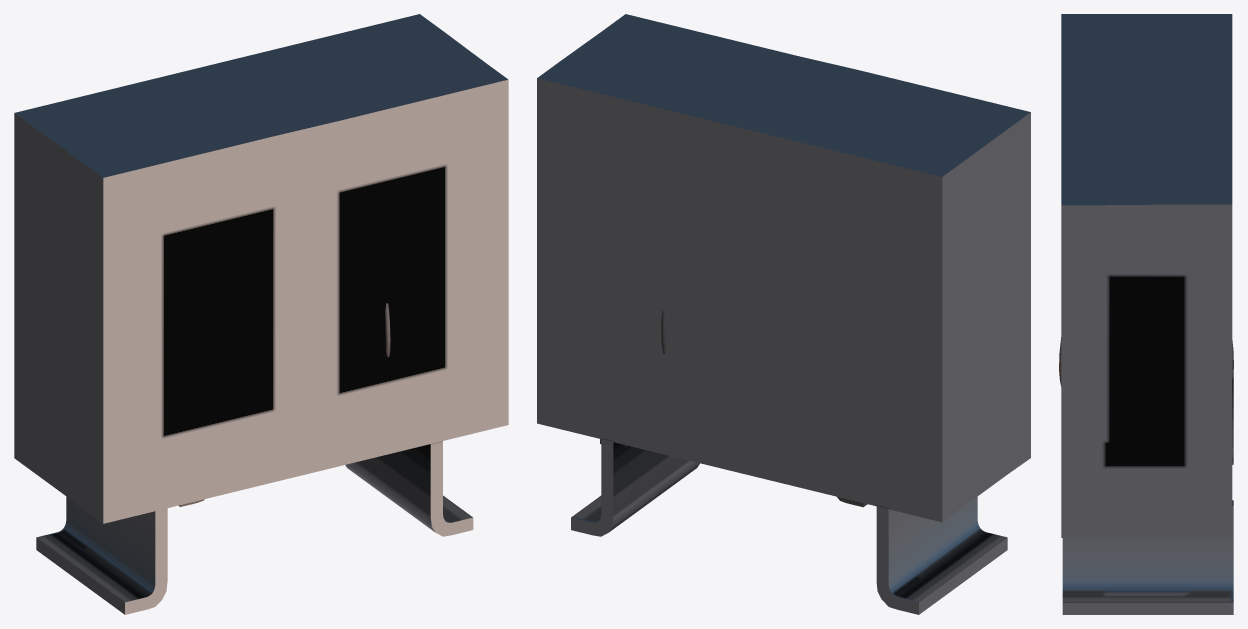
File: dianzi_2.glb
3 views of the same model, side by side, from view 1: azimuth 30°, elevation 25°; view 2: azimuth 150°, elevation 25°; view 3: azimuth 270°, elevation 25° (orthographic). The views are drawn at different scales.
Visible parts, largest first — view 1: 立方体_1; view 2: 立方体_1; view 3: 立方体_1.
Boxes of the visible parts, x1,y1,x2,y2 form: 立方体_1: [14, 14, 508, 614]; 立方体_1: [537, 14, 1030, 614]; 立方体_1: [1061, 14, 1233, 614].
Bounding box in the file's own units: 3.18 × 3.32 × 1.23.
Materials: 2 (2 with a texture image).
